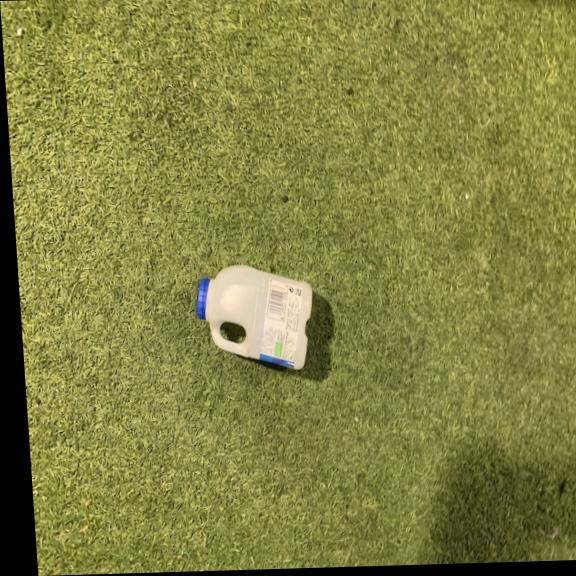Plastik: (190, 253, 318, 375)
